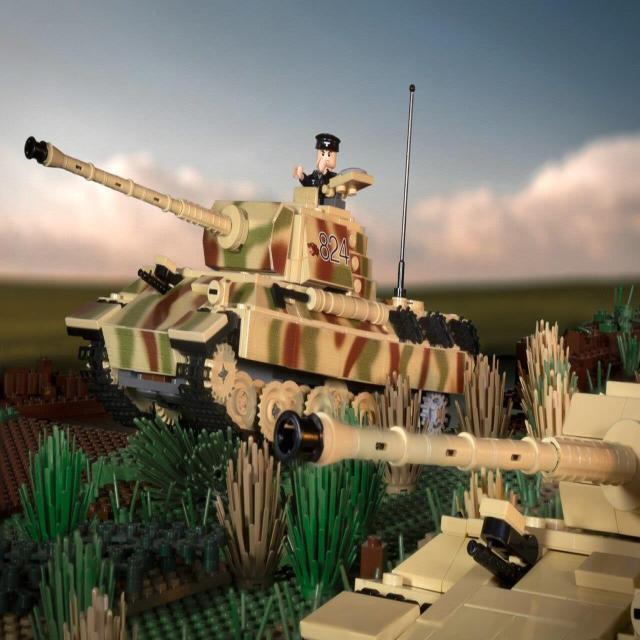MIL_MBT: (84, 134, 492, 408), (276, 419, 577, 632)
